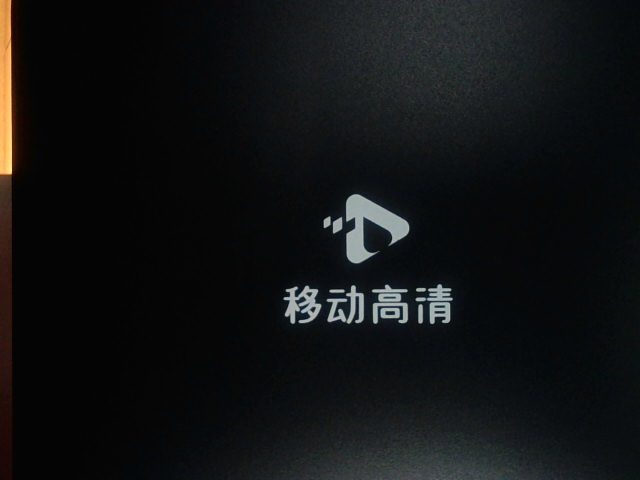AO_MobileHD: (244, 179, 487, 334)
